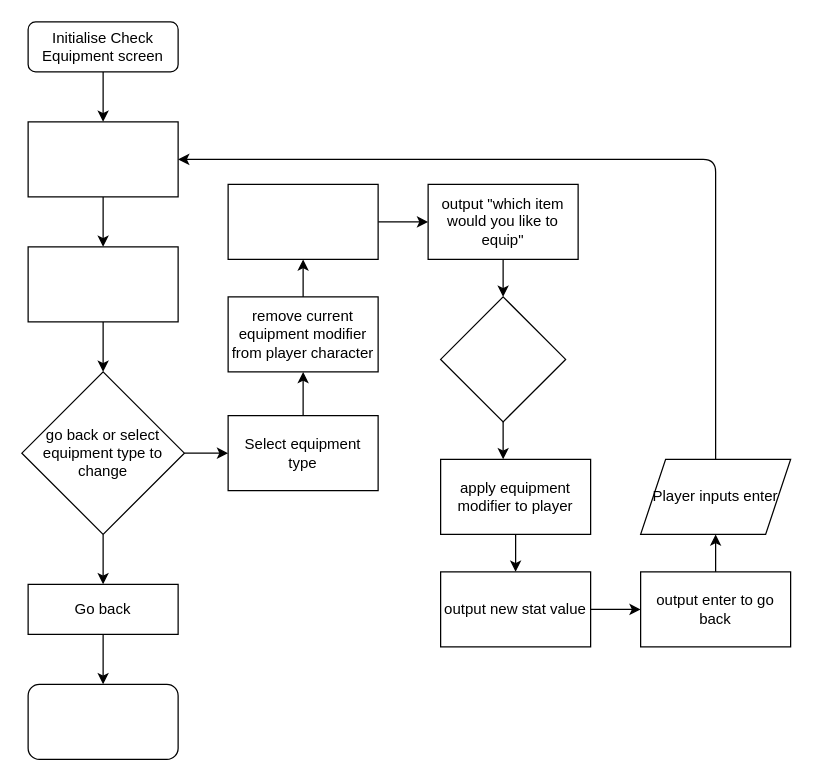
Image size: 813x781. Some labels were removed from this diagram. Here are the shapes that lost their labels. From the top down, the centre of each, then its label:
(102,159): output current equipment
(302,221): output equipment type items owned
(102,284): output "which item would you like to change"
(502,359): select item to equip
(102,721): load location screen
